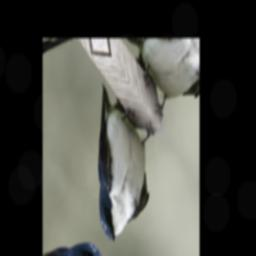Swallow: (61, 64, 173, 256)
